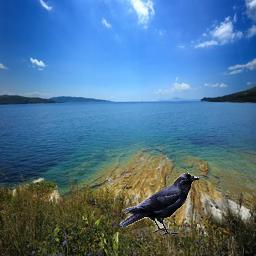Crow: (119, 173, 200, 237)
